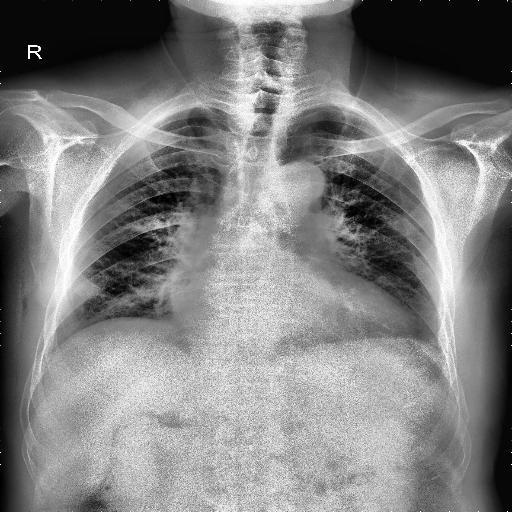0- Aortic enlargement: (270, 156, 328, 214), (260, 161, 326, 210), (264, 160, 326, 202)
3- Cardiomegaly: (164, 278, 410, 358), (170, 268, 414, 336), (168, 286, 418, 352)
